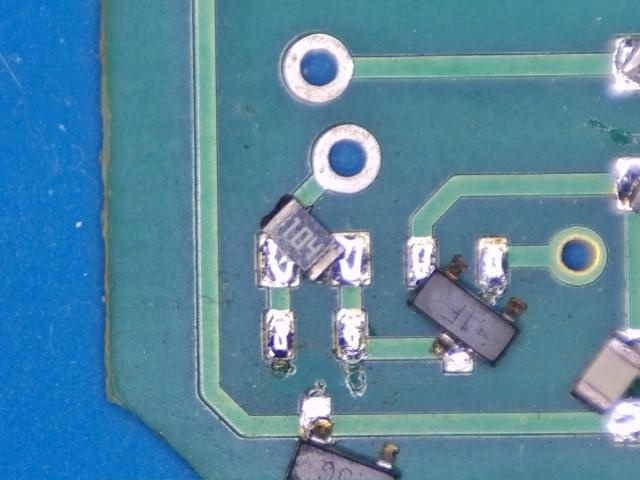pcb_defect: (404, 237, 528, 374), (255, 195, 371, 288), (284, 396, 401, 480), (570, 329, 640, 444)
